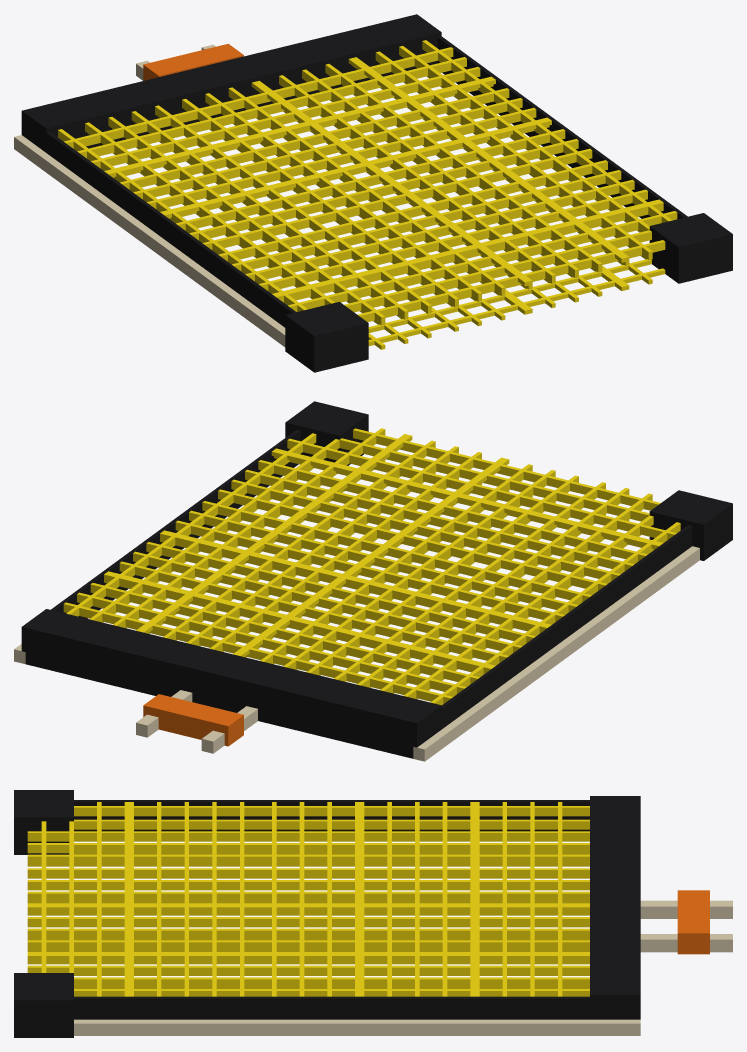
Rendered from dive_bag.glb.
3 views of the same model, one above another, from view 1: azimuth 30°, elevation 25°; view 2: azimuth 150°, elevation 25°; view 3: azimuth 270°, elevation 25° (orthographic). The views are drawn at different scales.
Parts seen in each view (by area): view 1: dive_bag:compound; view 2: dive_bag:compound; view 3: dive_bag:compound.
Boxes of the visible parts, <box> form: dive_bag:compound: <box>14,14,732,372</box>; dive_bag:compound: <box>14,401,732,761</box>; dive_bag:compound: <box>14,790,732,1037</box>.
Size of the model in its own units: 0.432 by 0.036 by 0.624.
